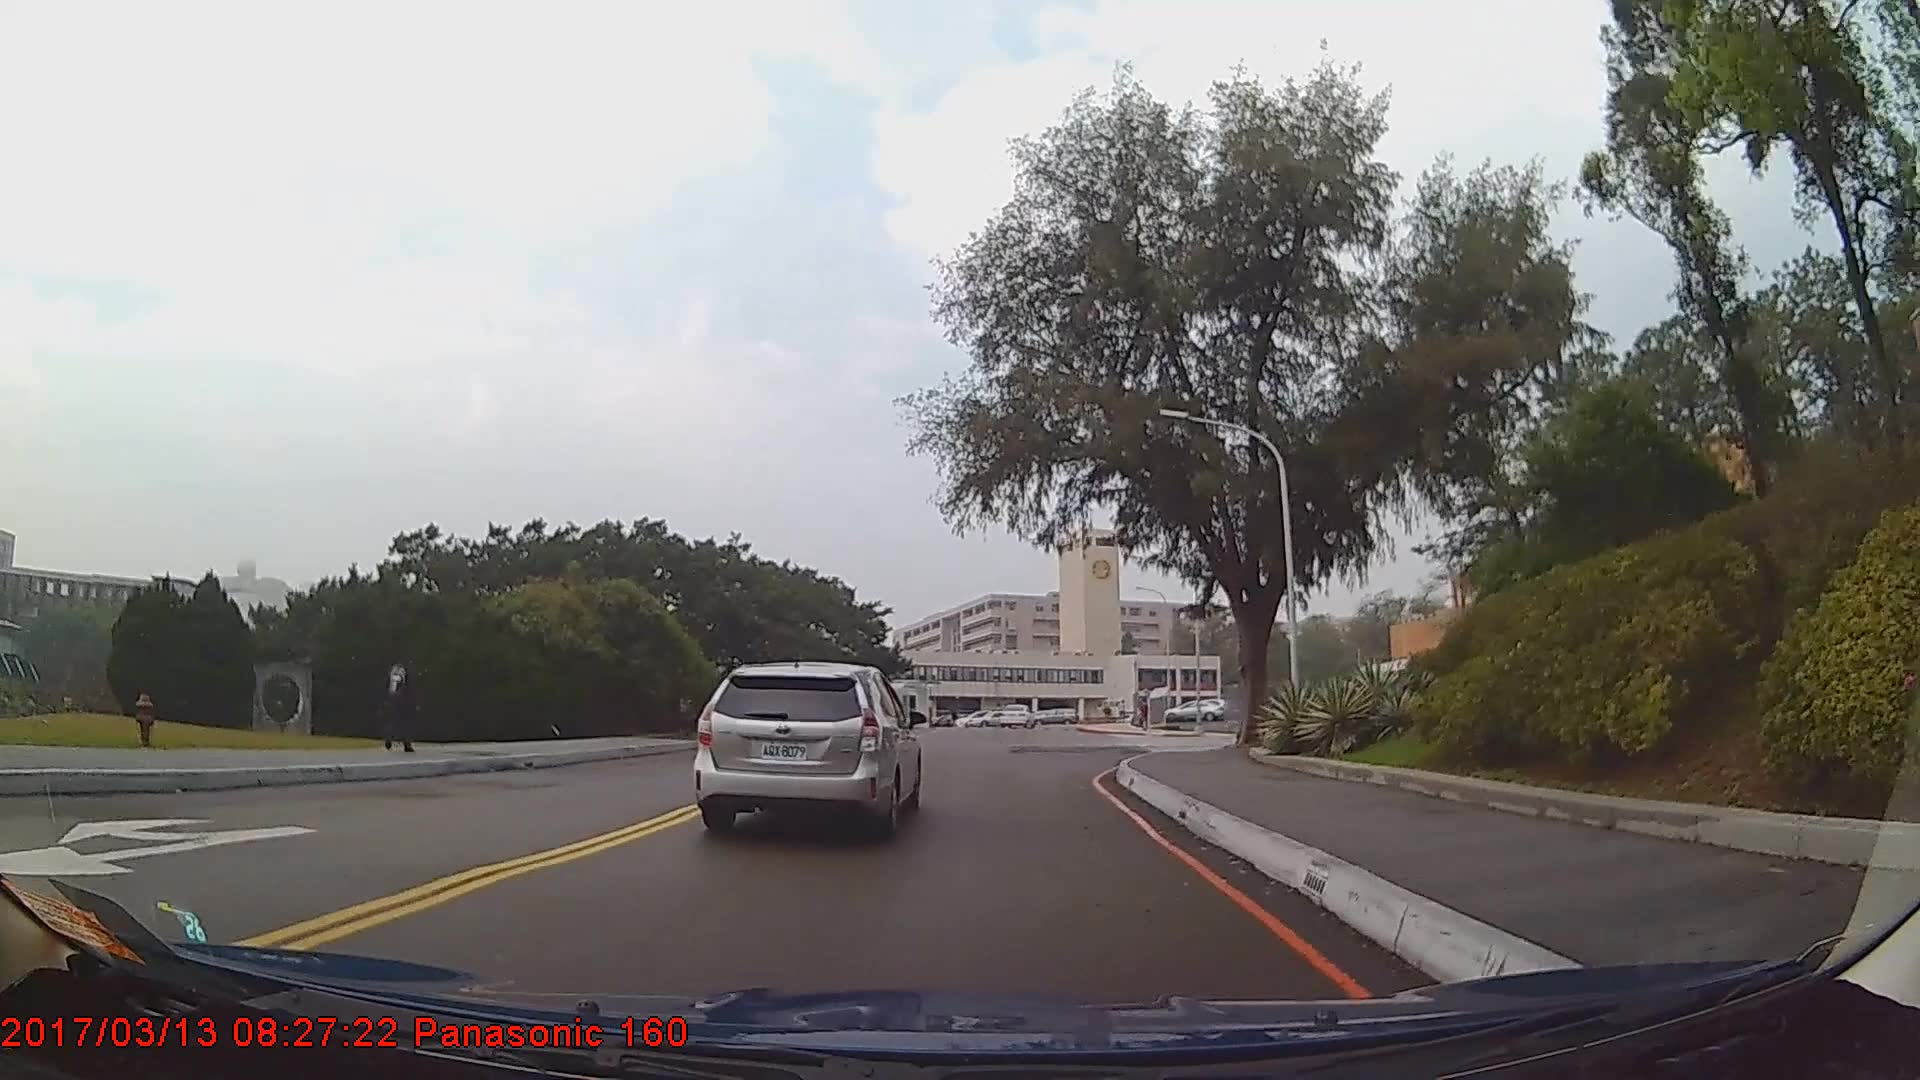pedestrian: (371, 647, 421, 756)
vehicle: (692, 659, 922, 841), (1161, 699, 1221, 721), (965, 703, 1013, 728), (994, 701, 1034, 728)
